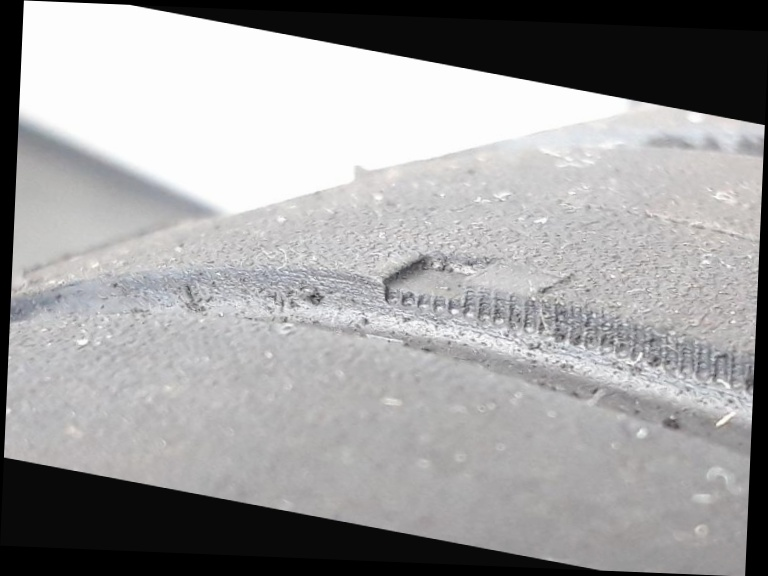temoin:25: (365, 226, 581, 358)
